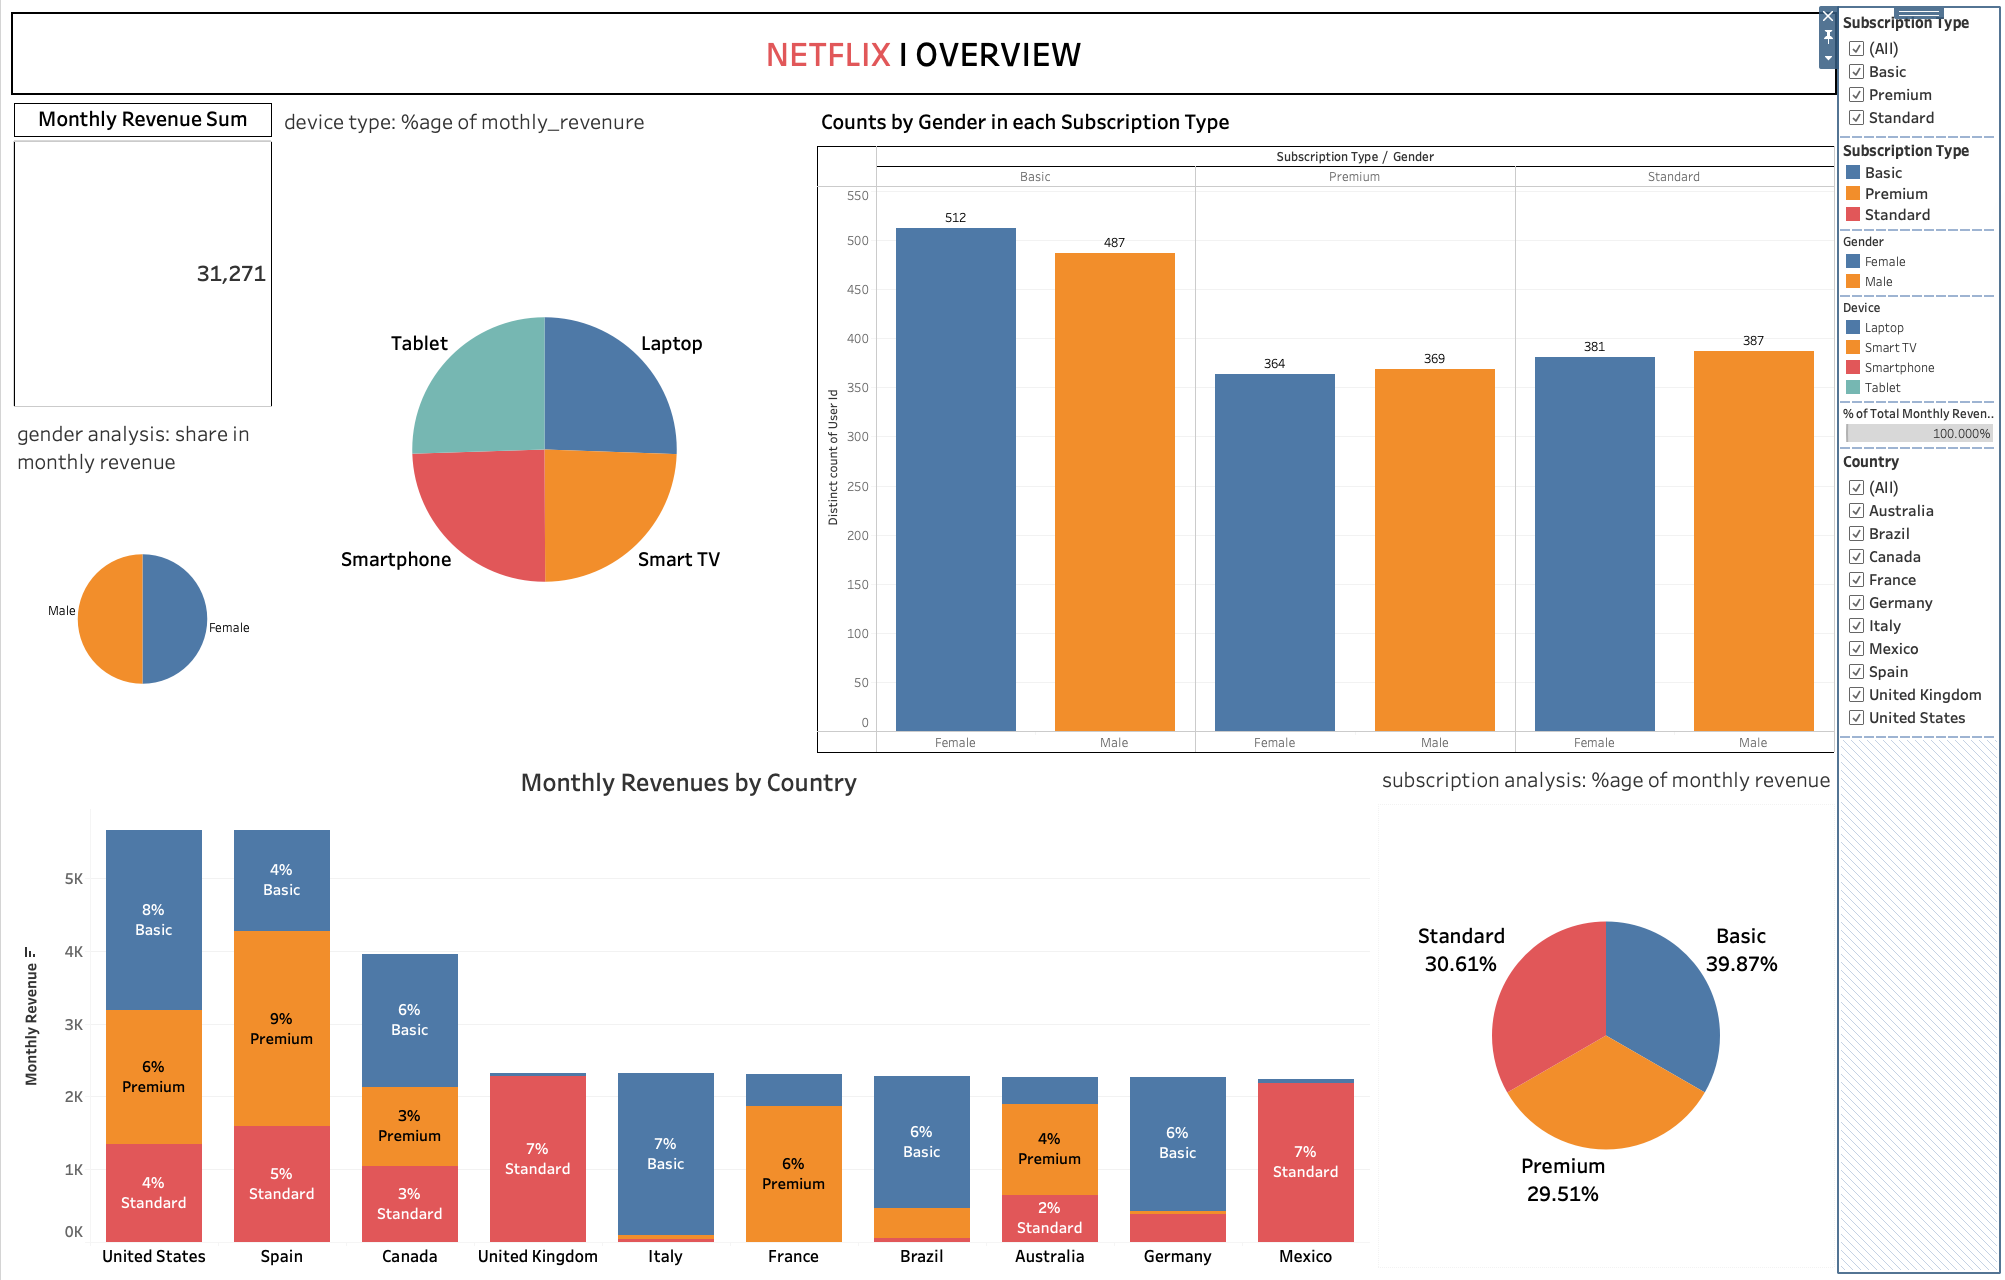

The dashboard page shown, as its layout file describes it:
{"tool":"tableau","page":{"name":"Dashboard 1","canvas":[1000,1000],"units":"permille","ordinal":0},"visuals":[{"type":"text","box":[5.8,9.3,873.6,70.7]},{"type":"filter","title":"country analysis: bar graph for each country","param":"[federated.0wd23mv1i5j0yn17z682z1nz34c2].[none:subscription_type:nk]","box":[879.3,9.3,114.9,149]},{"type":"worksheet","title":"metrics: monthly revenue sum","mark":"Automatic","box":[5.8,80,191.8,255.2]},{"type":"worksheet","title":"device type: %age of mothly_revenure","mark":"Pie","box":[197.6,80,385.8,510.5]},{"type":"worksheet","title":"gender analysis: counts in each subscription type","mark":"Automatic","rows":["user_id"],"cols":["subscription_type","gender"],"box":[583.3,80,295.9,510.5]},{"type":"legend","title":"country analysis: bar graph for each country","param":"[federated.0wd23mv1i5j0yn17z682z1nz34c2].[none:subscription_type:nk]","box":[879.3,158.3,114.9,108.3]},{"type":"legend","title":"gender analysis: counts in each subscription type","param":"[federated.0wd23mv1i5j0yn17z682z1nz34c2].[none:gender:nk]","box":[879.3,266.6,114.9,76.8]},{"type":"worksheet","title":"gender analysis: share in monthly revenue","mark":"Pie","box":[5.8,335.3,191.8,255.2]},{"type":"legend","title":"device type: %age of mothly_revenure","param":"[federated.0wd23mv1i5j0yn17z682z1nz34c2].[none:device:nk]","box":[879.3,343.4,114.9,123.4]},{"type":"legend","title":"device type: %age of mothly_revenure","param":"[federated.0wd23mv1i5j0yn17z682z1nz34c2].[pcto:sum:monthly_revenue:qk]","box":[879.3,466.8,114.9,53.6]},{"type":"filter","title":"country analysis: bar graph for each country","param":"[federated.0wd23mv1i5j0yn17z682z1nz34c2].[none:country:nk]","box":[879.3,520.4,114.9,336.4]},{"type":"worksheet","title":"country analysis: bar graph for each country","mark":"Automatic","rows":["monthly_revenue"],"cols":["country"],"box":[5.8,590.5,850.6,400.2]},{"type":"worksheet","title":"subscription analysis: %age of monthly revenue","mark":"Pie","box":[856.3,590.5,23,400.2]}]}

Visuals, with their boxes on the dashboard's canvas, which has no fixed pixel size, in thousandths of its width and height (x1, y1, x2, y2). These are canvas units, not pixel positions in the 2005x1280 screenshot, which may show the page scaled, cropped or inside an application window:
text: 6:9:879:80
"country analysis: bar graph for each country" filter: 879:9:994:158
"metrics: monthly revenue sum" worksheet: 6:80:198:335
"device type: %age of mothly_revenure" worksheet (Pie marks): 198:80:583:590
"gender analysis: counts in each subscription type" worksheet: 583:80:879:590
"country analysis: bar graph for each country" legend: 879:158:994:267
"gender analysis: counts in each subscription type" legend: 879:267:994:343
"gender analysis: share in monthly revenue" worksheet (Pie marks): 6:335:198:590
"device type: %age of mothly_revenure" legend: 879:343:994:467
"device type: %age of mothly_revenure" legend: 879:467:994:520
"country analysis: bar graph for each country" filter: 879:520:994:857
"country analysis: bar graph for each country" worksheet: 6:590:856:991
"subscription analysis: %age of monthly revenue" worksheet (Pie marks): 856:590:879:991
